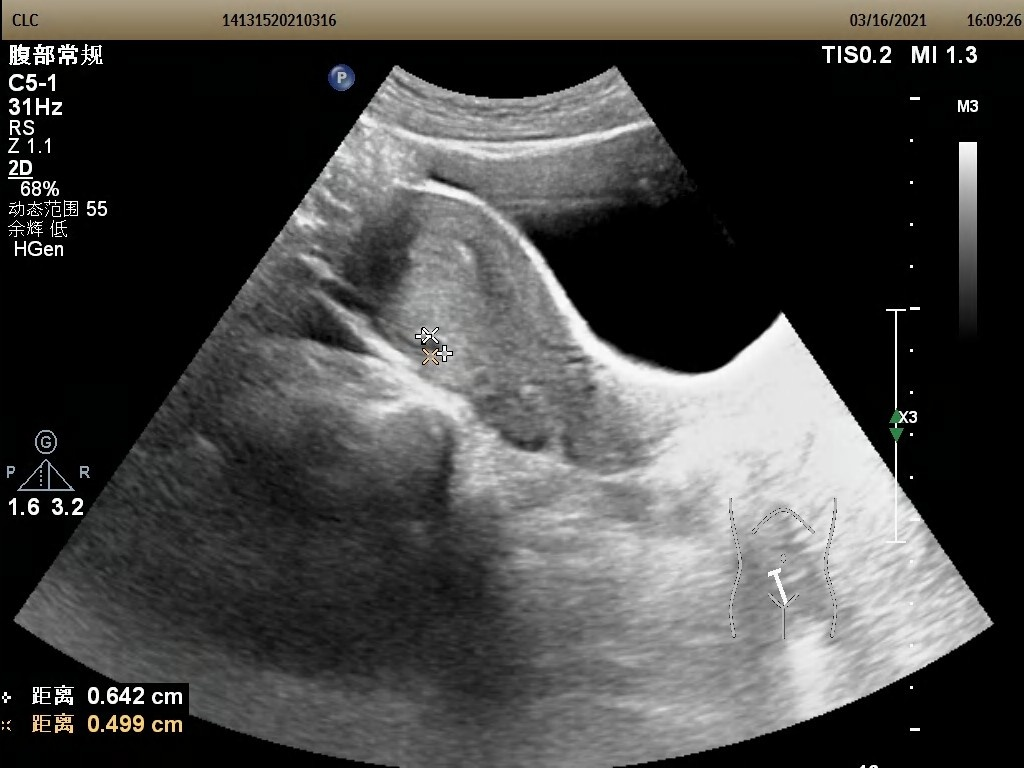肌瘤: (422, 335, 447, 354)
